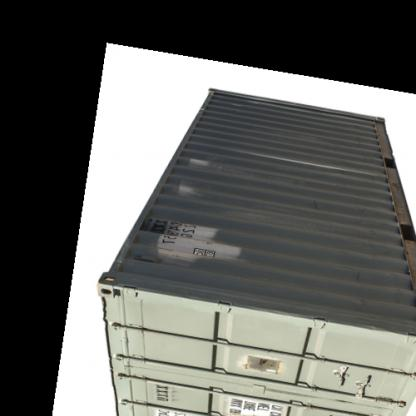Damage: (144, 221, 245, 272), (233, 347, 284, 382), (169, 179, 196, 203), (349, 260, 368, 293), (184, 150, 212, 171), (304, 195, 320, 213)
